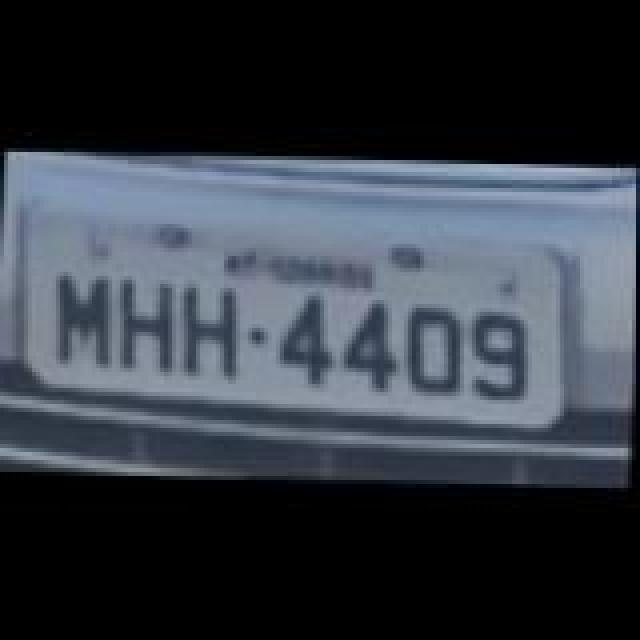4: (274, 294, 342, 390), (336, 302, 404, 394)
9: (466, 310, 538, 402)
D: (398, 304, 470, 396)
H: (172, 280, 252, 380), (110, 276, 186, 376)
M: (42, 270, 126, 370)
